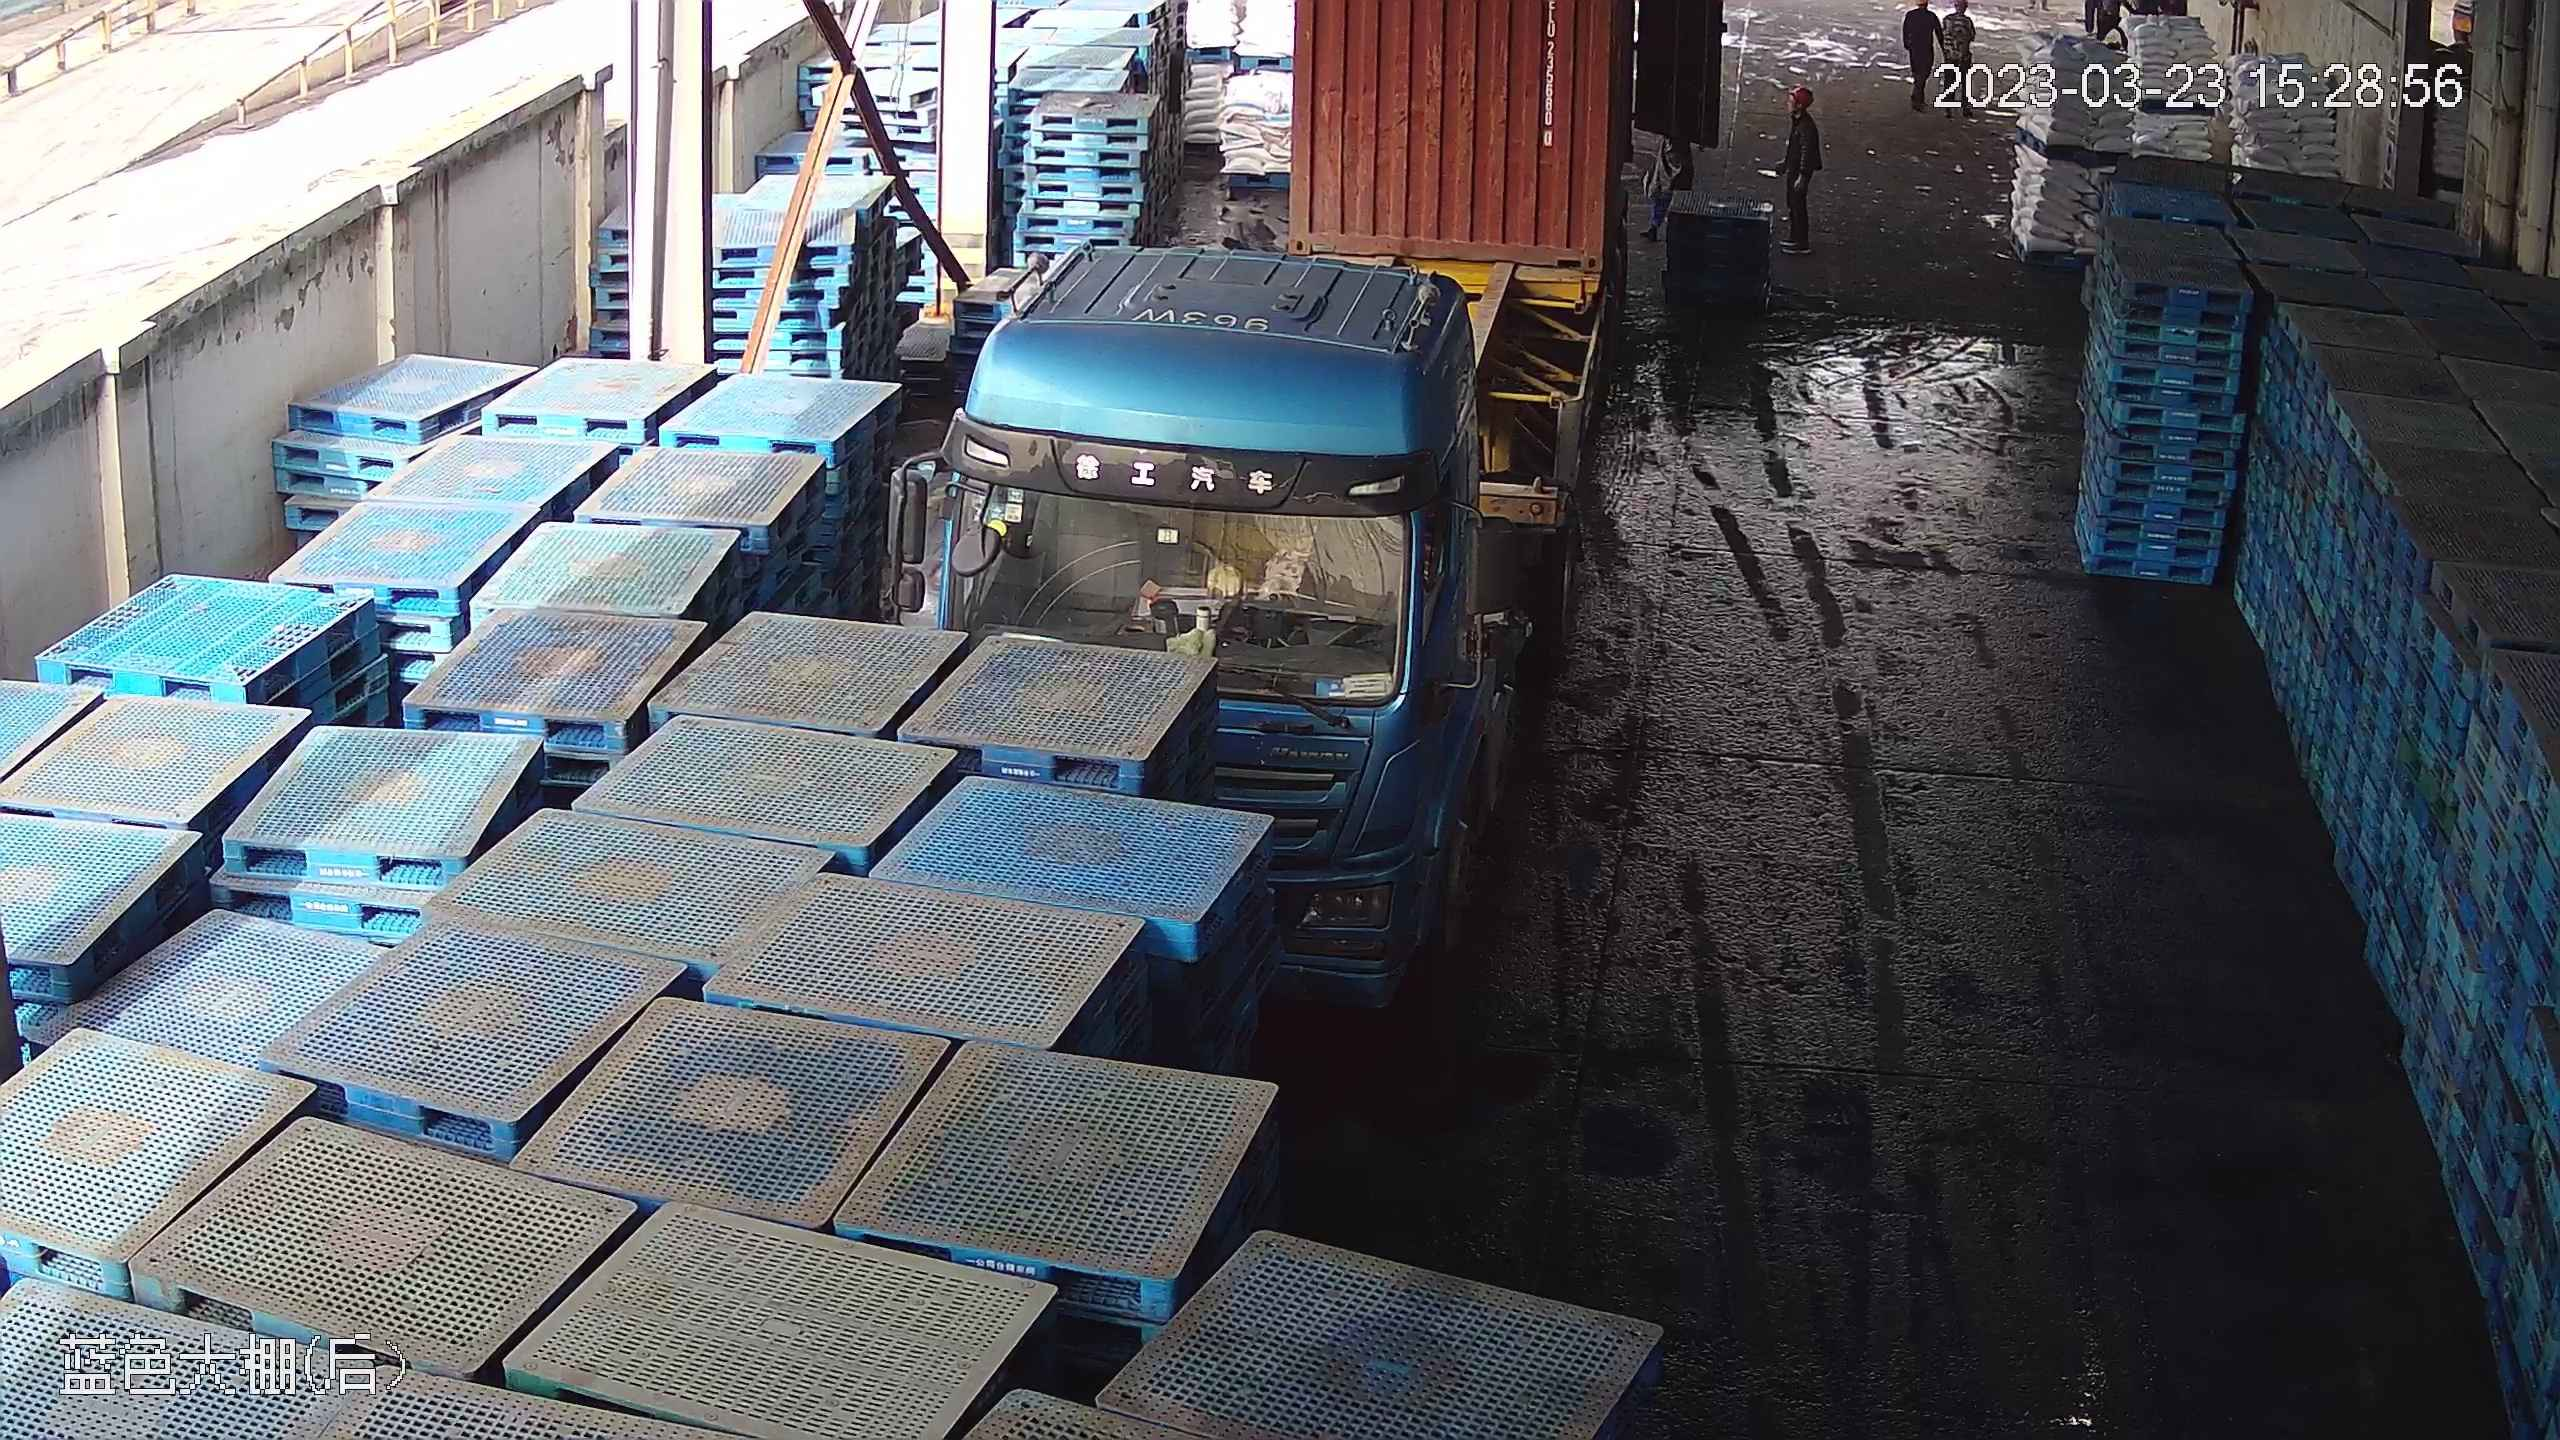head: (1783, 81, 1822, 131), (1943, 1, 1975, 33)
helmet: (1789, 81, 1812, 100)
people: (1772, 82, 1823, 245), (1940, 1, 1979, 121), (1901, 1, 1936, 102)
truck: (891, 1, 1612, 924)
